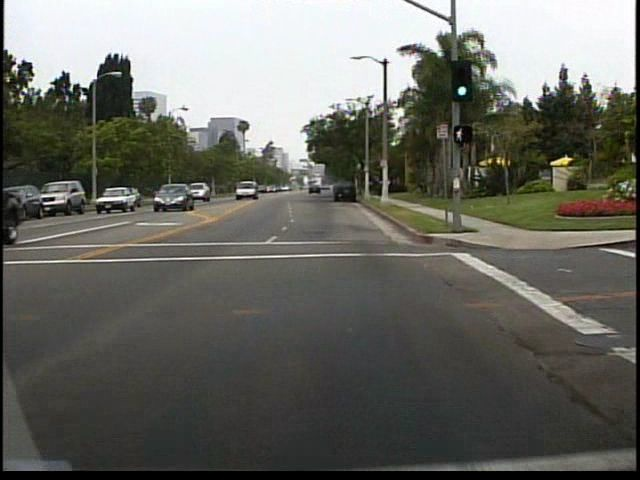person: (381, 173, 393, 199), (377, 177, 386, 201)
